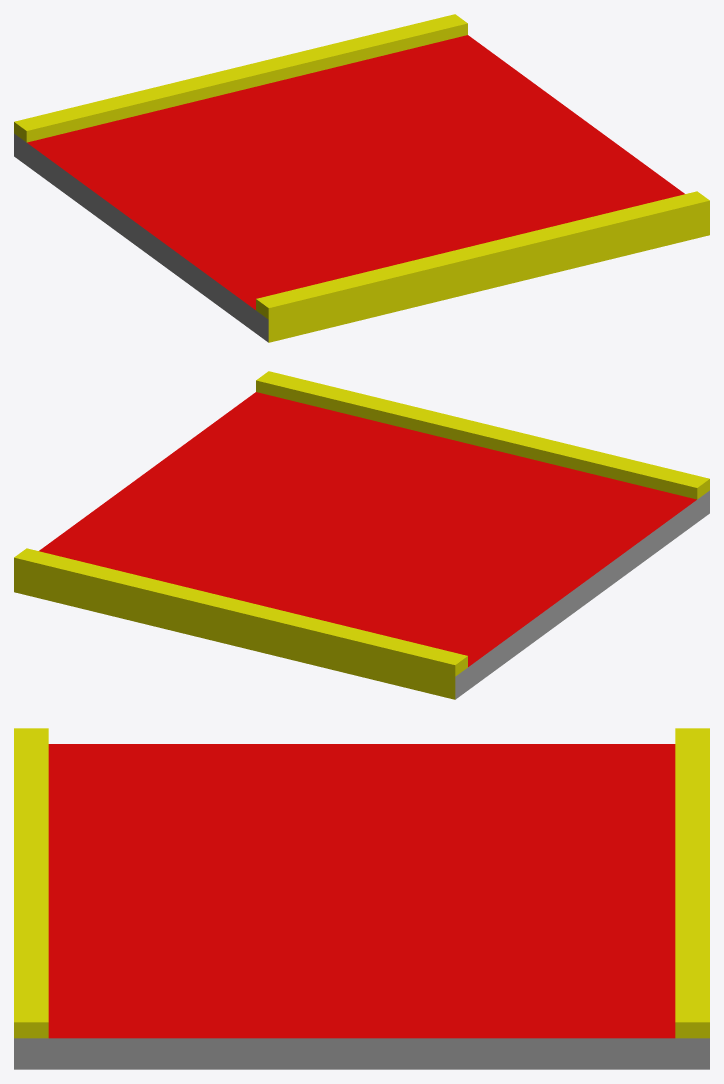
The model's file is UV_TRI_Walkway_2Rims_2x2_DTG.fbx.
3 renders of one model, top to bottom at view 1: azimuth 30°, elevation 25°; view 2: azimuth 150°, elevation 25°; view 3: azimuth 270°, elevation 25°, orthographic. The views are drawn at different scales.
Parts seen in each view (by area): view 1: Walkway_2Rims; view 2: Walkway_2Rims; view 3: Walkway_2Rims.
Part boxes in pixels (x1,y1,x2,y2): Walkway_2Rims: (14, 14, 709, 342); Walkway_2Rims: (14, 371, 709, 699); Walkway_2Rims: (14, 728, 709, 1069).
Bounding box in the file's own units: 2 × 0.15 × 2.
